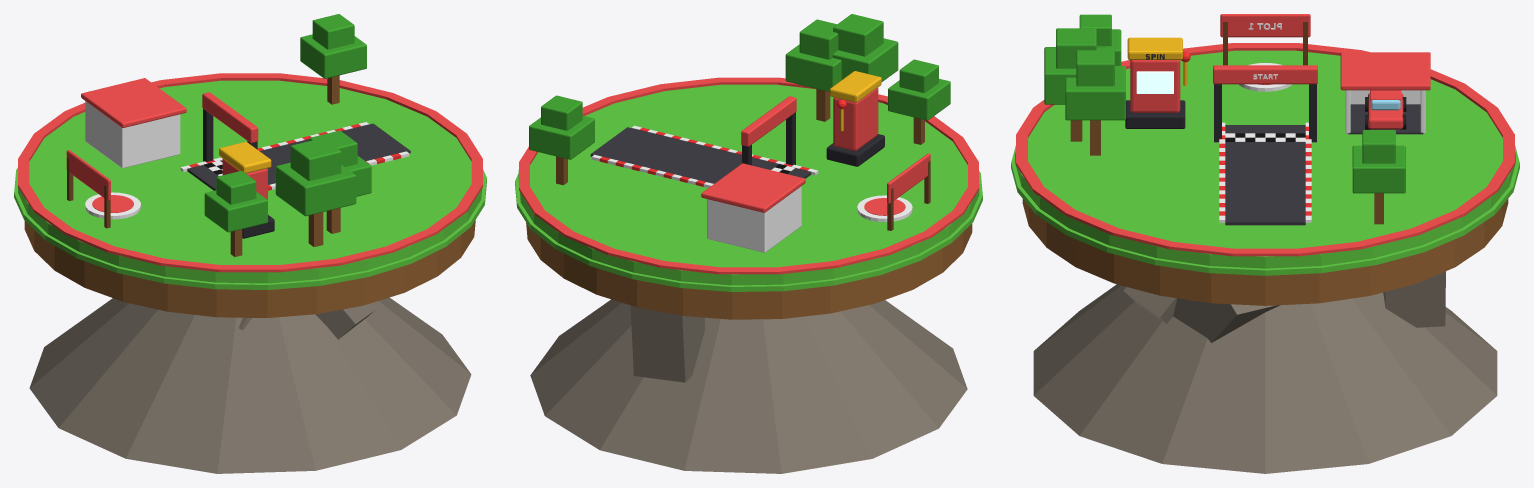
The model's file is PlayerPlot.fbx.
The picture shows the model from 3 angles, left to right: view 1: azimuth 30°, elevation 25°; view 2: azimuth 150°, elevation 25°; view 3: azimuth 270°, elevation 25°; orthographic projection. The views are drawn at different scales.
Parts seen in each view (by area): view 1: Plot_1_Island, Plot_1_Border, Plot_1_Garage, Plot_1_Tree3, Plot_1_Tree0, Plot_1_TrackStart, Plot_1_Tree2, Plot_1_SpinMachine, Plot_1_StartGate, Plot_1_Tree4, Plot_1_Sign, Plot_1_Spawn; view 2: Plot_1_Island, Plot_1_Border, Plot_1_Garage, Plot_1_TrackStart, Plot_1_SpinMachine, Plot_1_Tree4, Plot_1_Tree0, Plot_1_Tree3, Plot_1_Tree2, Plot_1_StartGate, Plot_1_Sign, Plot_1_Spawn; view 3: Plot_1_Island, Plot_1_TrackStart, Plot_1_Border, Plot_1_Garage, Plot_1_SpinMachine, Plot_1_Tree4, Plot_1_Tree0, Plot_1_StartGate, Plot_1_Tree3, Plot_1_Sign, Plot_1_Car, Plot_1_Tree2.
Boxes of the visible parts, x1,y1,x2,y2 form: Plot_1_Island: (14, 80, 486, 473); Plot_1_Border: (18, 73, 482, 272); Plot_1_Garage: (81, 78, 186, 168); Plot_1_Tree3: (275, 138, 356, 246); Plot_1_Tree0: (300, 14, 366, 104); Plot_1_TrackStart: (180, 122, 410, 190); Plot_1_Tree2: (204, 171, 267, 256); Plot_1_SpinMachine: (219, 142, 274, 238); Plot_1_StartGate: (202, 92, 258, 161); Plot_1_Tree4: (309, 130, 371, 233); Plot_1_Sign: (66, 150, 110, 228); Plot_1_Spawn: (85, 192, 140, 219); Plot_1_Island: (515, 84, 982, 473); Plot_1_Border: (519, 77, 978, 274); Plot_1_Garage: (701, 163, 805, 252); Plot_1_TrackStart: (590, 125, 818, 187); Plot_1_SpinMachine: (826, 71, 884, 166); Plot_1_Tree4: (785, 19, 841, 121); Plot_1_Tree0: (529, 95, 594, 185); Plot_1_Tree3: (832, 14, 898, 81); Plot_1_Tree2: (888, 59, 950, 144); Plot_1_StartGate: (741, 96, 796, 165); Plot_1_Sign: (887, 153, 930, 230); Plot_1_Spawn: (857, 195, 912, 222); Plot_1_Island: (1011, 50, 1519, 473); Plot_1_TrackStart: (1219, 122, 1311, 225); Plot_1_Border: (1016, 43, 1514, 256); Plot_1_Garage: (1340, 52, 1430, 134); Plot_1_SpinMachine: (1125, 37, 1190, 128); Plot_1_Tree4: (1065, 48, 1125, 155); Plot_1_Tree0: (1352, 130, 1405, 224); Plot_1_StartGate: (1213, 65, 1317, 142); Plot_1_Tree3: (1044, 28, 1107, 141); Plot_1_Sign: (1220, 14, 1310, 65); Plot_1_Car: (1365, 90, 1406, 129); Plot_1_Tree2: (1079, 14, 1121, 65).
Bounding box in the file's own units: 102 × 71.68 × 102.
